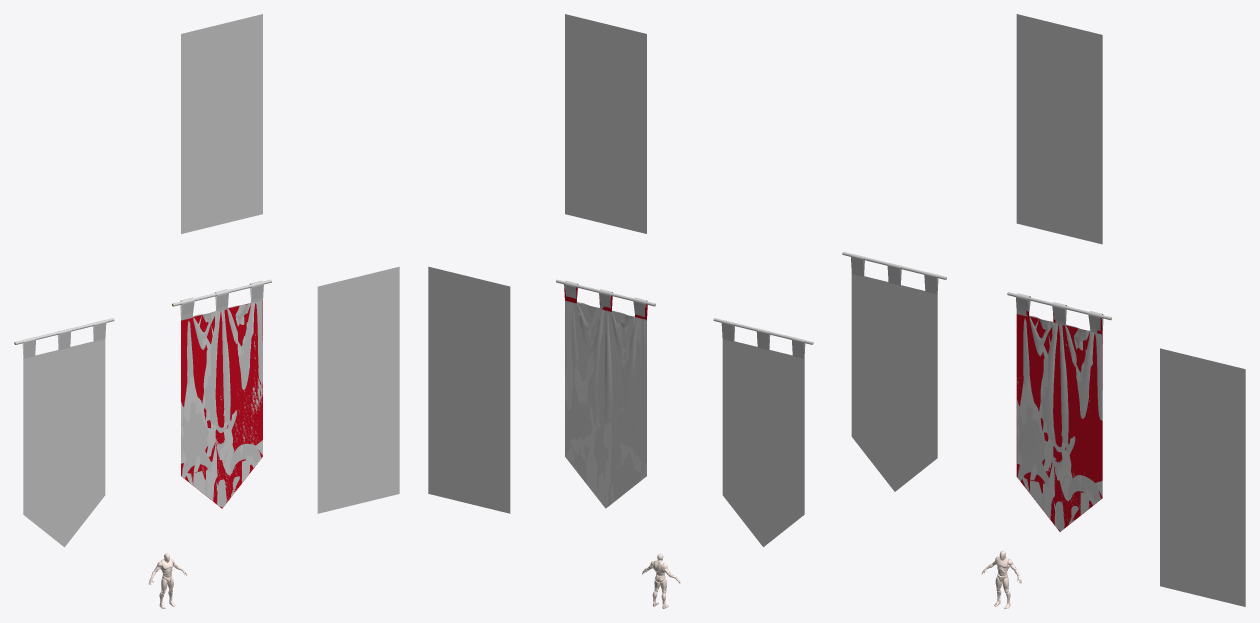
File: SM_Bandera_fbx.fbx
3 views of the same model, side by side, from view 1: azimuth 30°, elevation 25°; view 2: azimuth 150°, elevation 25°; view 3: azimuth 330°, elevation 25° (orthographic). The views are drawn at different scales.
Parts seen in each view (by area): view 1: Flag.002, Flag.001, Flag_Low.001, Flag_low, SM_Flag_High, SM_Flag_Low, Sujetaciones_Low.001, Geom_Character_Size, Flag_high; view 2: Flag.002, Flag.001, Flag_Low.001, SM_Flag_High, Flag_high, SM_Flag_Low, Sujetaciones_Low.001, Geom_Character_Size; view 3: Flag.002, Flag.001, Flag_Low.001, Flag_low, SM_Flag_High, SM_Flag_Low, Sujetaciones_Low.001, Geom_Character_Size.
Part boxes in pixels (bbox=[...]): Flag.002: bbox=[317, 266, 399, 513]; Flag.001: bbox=[181, 14, 262, 233]; Flag_Low.001: bbox=[23, 339, 105, 547]; Flag_low: bbox=[172, 301, 262, 508]; SM_Flag_High: bbox=[181, 281, 263, 507]; SM_Flag_Low: bbox=[180, 283, 262, 506]; Sujetaciones_Low.001: bbox=[22, 320, 106, 358]; Geom_Character_Size: bbox=[148, 553, 187, 608]; Flag_high: bbox=[191, 305, 262, 502]; Flag.002: bbox=[428, 266, 510, 513]; Flag.001: bbox=[565, 14, 646, 233]; Flag_Low.001: bbox=[722, 339, 804, 546]; SM_Flag_High: bbox=[564, 280, 646, 506]; Flag_high: bbox=[565, 300, 646, 507]; SM_Flag_Low: bbox=[565, 282, 647, 508]; Sujetaciones_Low.001: bbox=[721, 320, 805, 358]; Geom_Character_Size: bbox=[642, 553, 680, 608]; Flag.002: bbox=[1160, 348, 1245, 606]; Flag.001: bbox=[1016, 14, 1102, 244]; Flag_Low.001: bbox=[851, 274, 937, 491]; Flag_low: bbox=[1016, 311, 1111, 531]; SM_Flag_High: bbox=[1016, 293, 1103, 530]; SM_Flag_Low: bbox=[1017, 296, 1102, 528]; Sujetaciones_Low.001: bbox=[851, 254, 938, 294]; Geom_Character_Size: bbox=[981, 550, 1021, 608].
Size of the model in its own units: 1407 by 1989 by 36.72.
